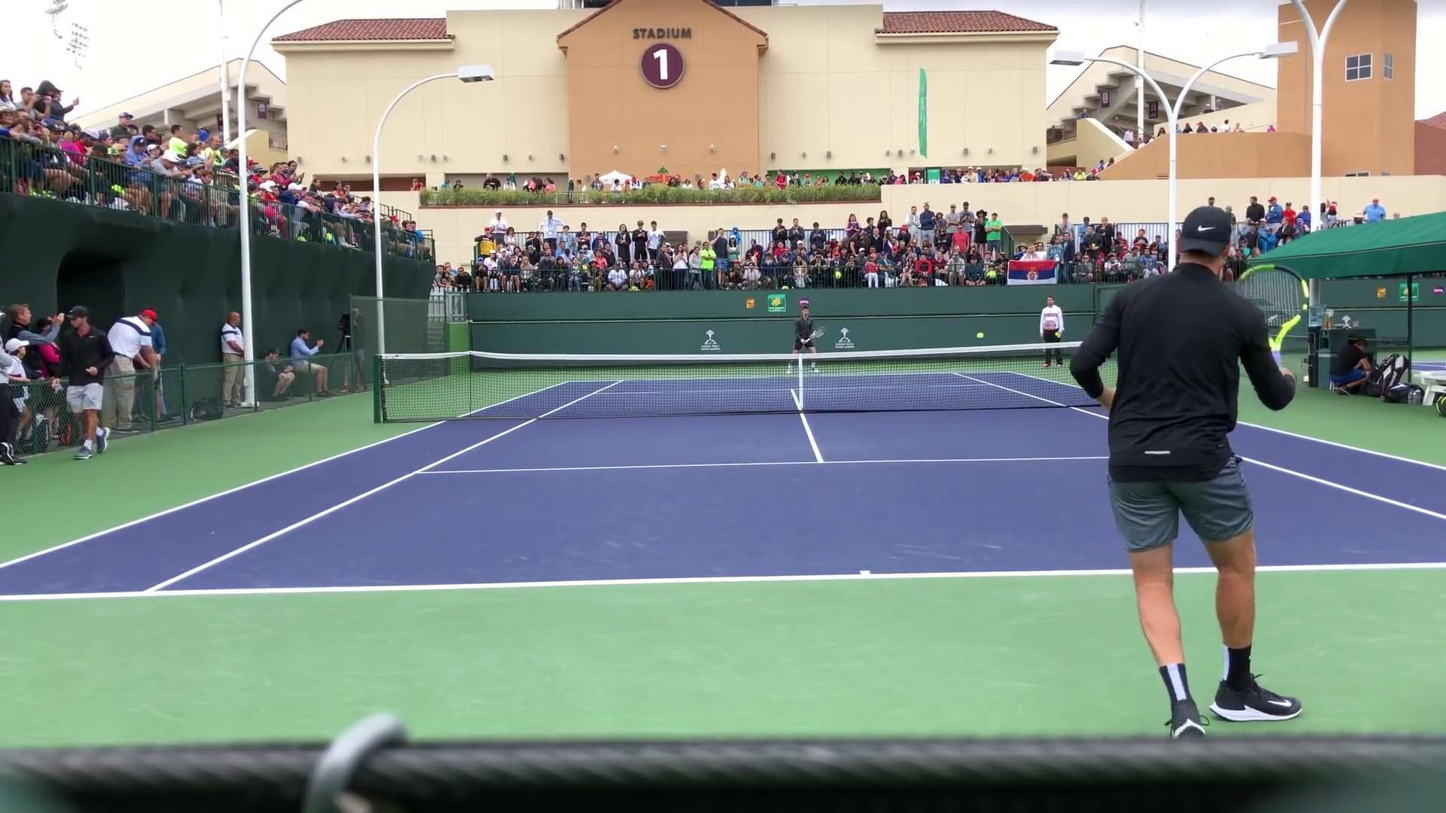ball: (976, 330, 984, 339)
